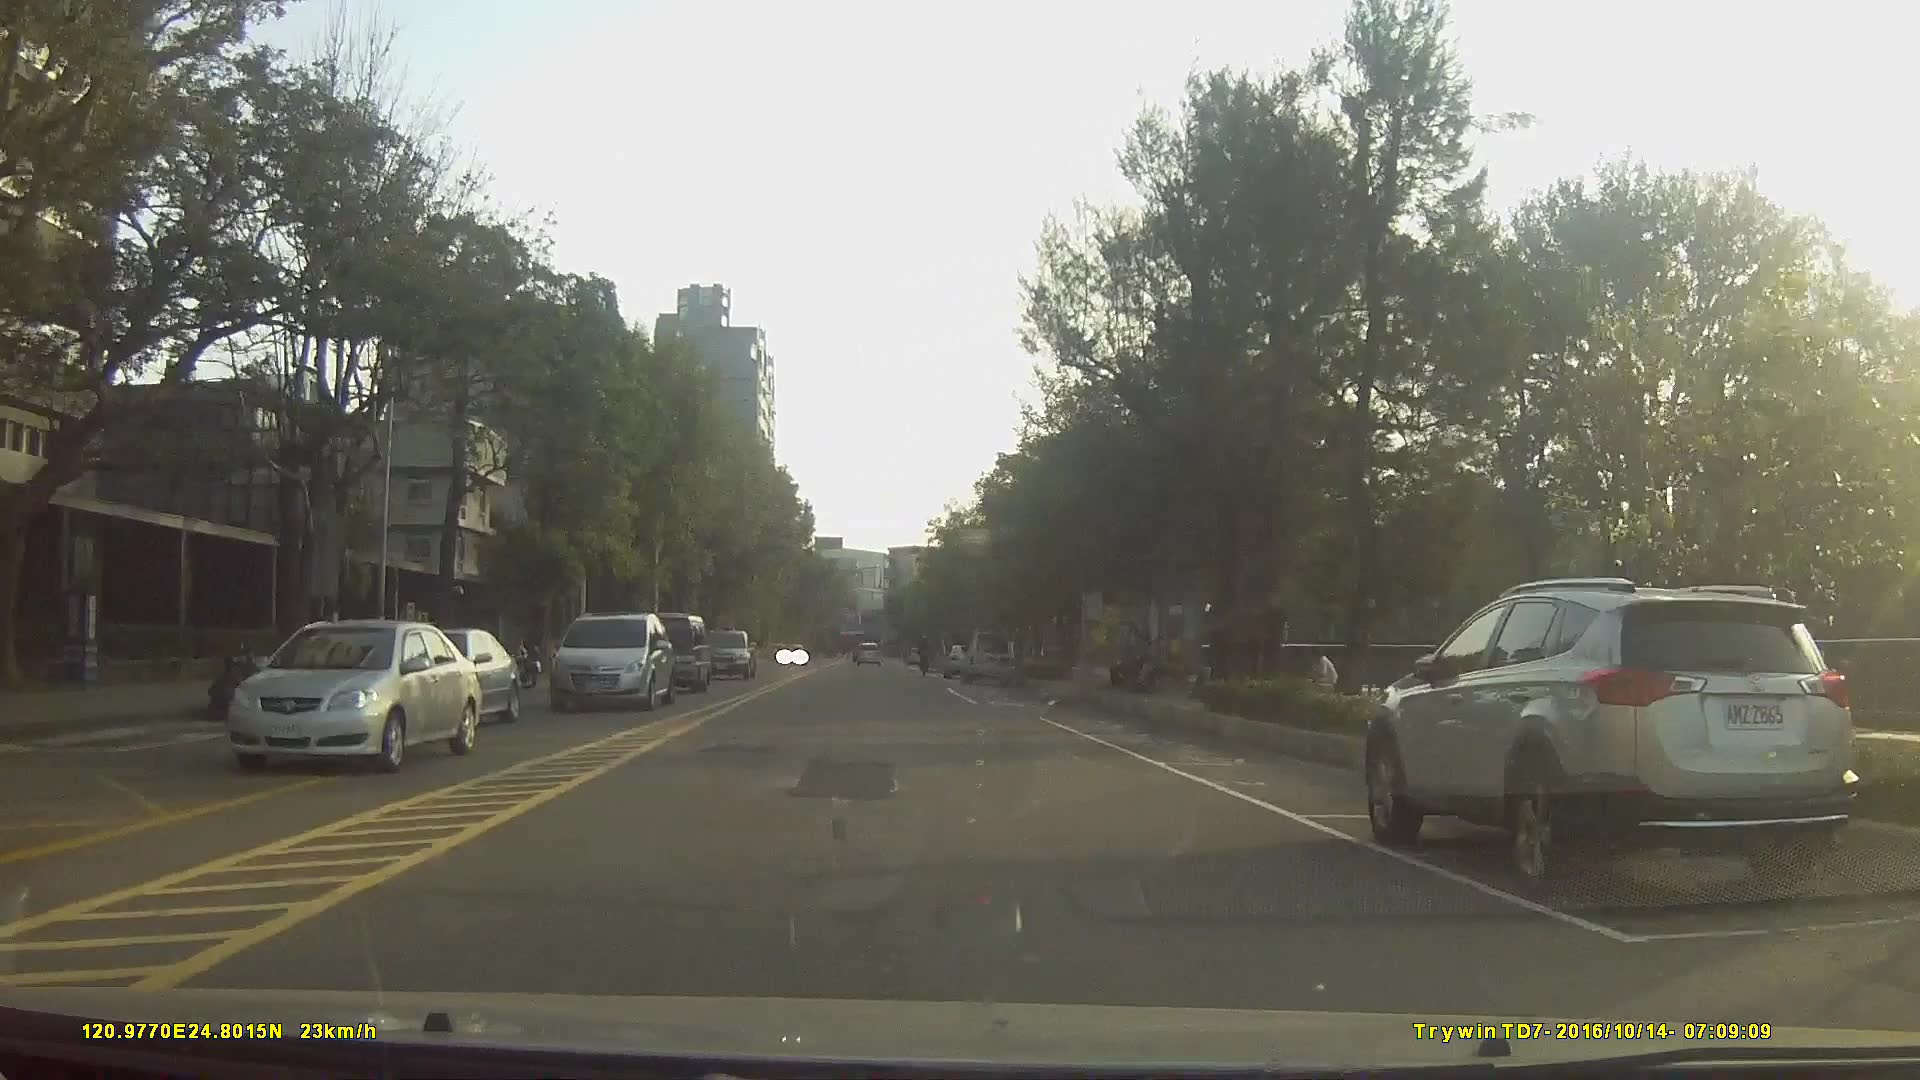rider: (916, 634, 936, 679)
vehicle: (1363, 572, 1863, 896), (222, 617, 481, 772), (391, 624, 521, 730), (545, 612, 673, 712), (622, 611, 708, 689), (957, 626, 1020, 679), (699, 627, 754, 678), (940, 641, 976, 678), (852, 637, 882, 667)
